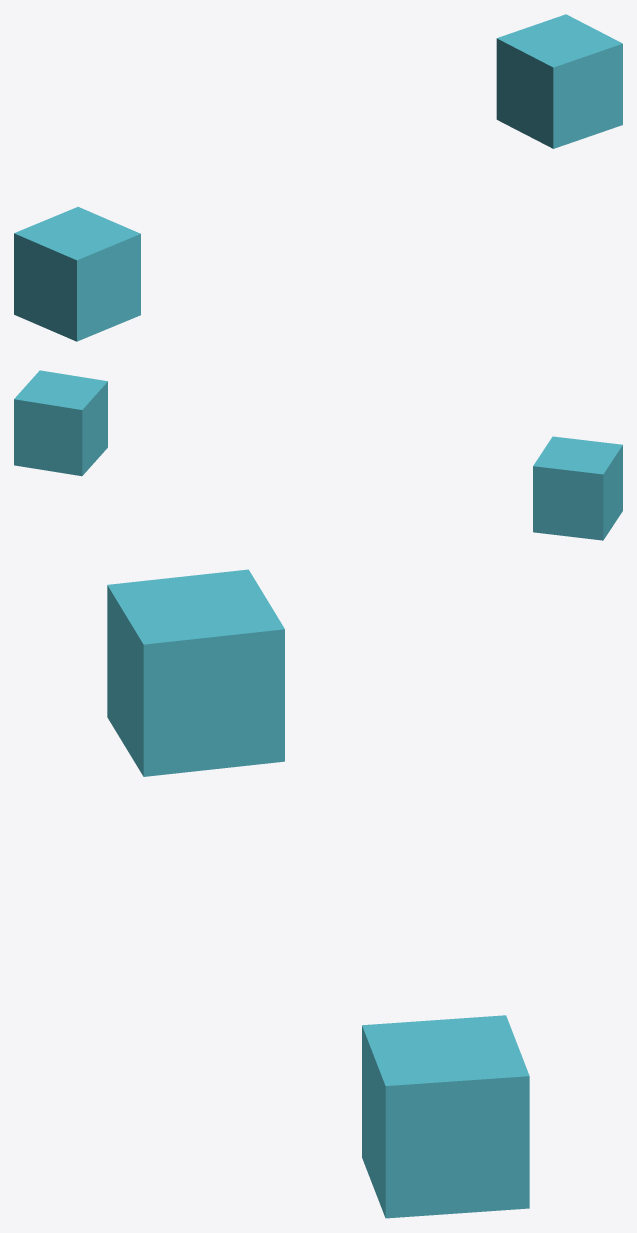
Rendered from 873_chimney.glb.
3 renders of one model, top to bottom at view 1: azimuth 30°, elevation 25°; view 2: azimuth 150°, elevation 25°; view 3: azimuth 270°, elevation 25°, orthographic. The views are drawn at different scales.
Visible parts, largest first — view 1: Box001, Box002; view 2: Box001, Box002; view 3: Box002, Box001.
Part boxes in pixels (x1,y1,x2,y2): Box001: (496,14,622,148); Box002: (14,207,140,341); Box001: (14,370,107,476); Box002: (533,436,622,540); Box002: (107,569,284,776); Box001: (362,1015,529,1218).
Bounding box in the file's own units: 6.95 × 0.8302 × 2.4.
